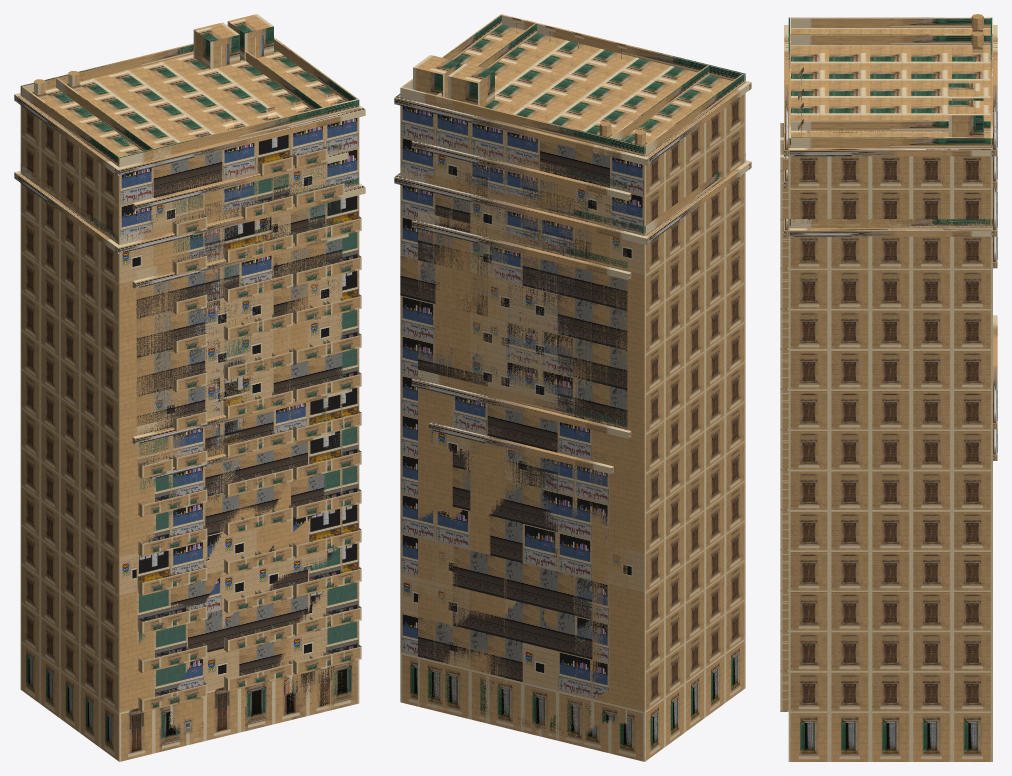
The picture shows the model from 3 angles, left to right: view 1: azimuth 30°, elevation 25°; view 2: azimuth 150°, elevation 25°; view 3: azimuth 270°, elevation 25°; orthographic projection. The views are drawn at different scales.
Visible parts, largest first — view 1: Khedivial_7x5_f12_v1, Khedivial_7x5_f14_v1, Khedivial_6x5_f7_v1, Khedivial_6x5_f11_v0, Khedivial_6x5_f13_v0, Khedivial_5x5_f6_v0, Khedivial_5x5_f14_v1; view 2: Khedivial_7x5_f12_v1, Khedivial_6x5_f7_v1, Khedivial_7x5_f14_v1, Khedivial_6x5_f11_v0, Khedivial_5x5_f6_v0, Khedivial_6x5_f13_v0, Khedivial_5x5_f14_v1; view 3: Khedivial_7x5_f12_v1, Khedivial_7x5_f14_v1, Khedivial_5x5_f14_v1, Khedivial_6x5_f7_v1, Khedivial_6x5_f13_v0.
Part boxes in pixels (box(x1,y1,x2,y2)): Khedivial_7x5_f12_v1: box(14, 164, 365, 761); Khedivial_7x5_f14_v1: box(14, 14, 365, 682); Khedivial_6x5_f7_v1: box(132, 378, 348, 743); Khedivial_6x5_f11_v0: box(132, 221, 348, 433); Khedivial_6x5_f13_v0: box(132, 143, 348, 703); Khedivial_5x5_f6_v0: box(150, 421, 331, 753); Khedivial_5x5_f14_v1: box(55, 22, 330, 674); Khedivial_7x5_f12_v1: box(394, 153, 751, 761); Khedivial_6x5_f7_v1: box(411, 369, 631, 745); Khedivial_7x5_f14_v1: box(394, 14, 751, 235); Khedivial_6x5_f11_v0: box(411, 211, 631, 429); Khedivial_5x5_f6_v0: box(429, 422, 613, 753); Khedivial_6x5_f13_v0: box(411, 132, 631, 270); Khedivial_5x5_f14_v1: box(431, 22, 709, 156); Khedivial_7x5_f12_v1: box(780, 188, 997, 761); Khedivial_7x5_f14_v1: box(780, 14, 997, 228); Khedivial_5x5_f14_v1: box(780, 31, 997, 683); Khedivial_6x5_f7_v1: box(780, 315, 997, 698); Khedivial_6x5_f13_v0: box(780, 123, 997, 417).
Size of the model in its own units: 25.3 by 60.7 by 18.6.
1 material, 1 textured.
